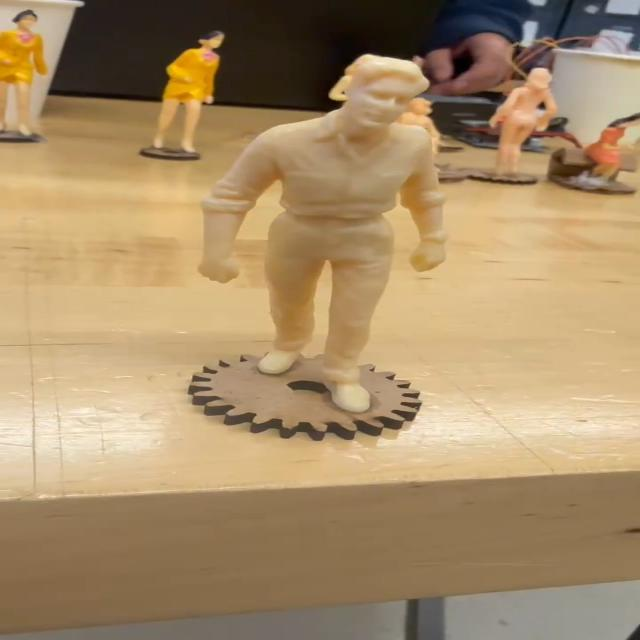Unauthorized: (189, 56, 477, 437)
